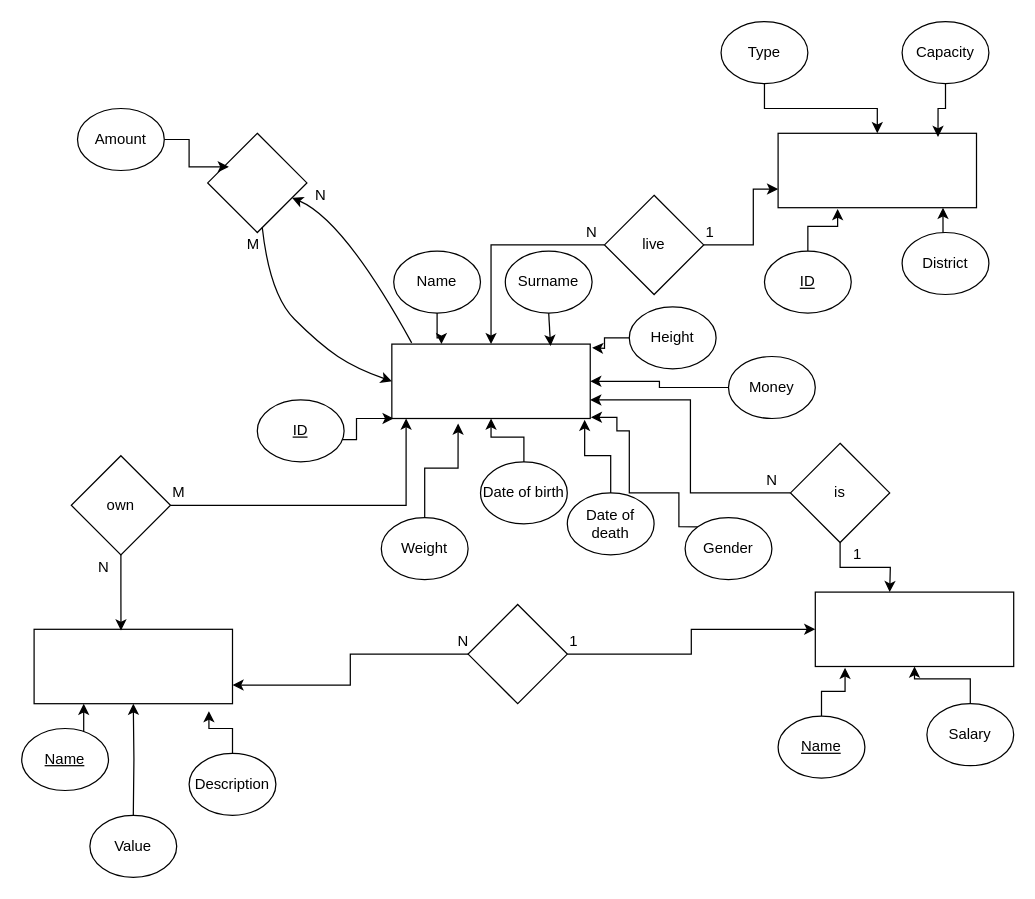
This 1035x899 diagram has some shape labels left out. The box of each missing label's shape, as (x1, y1, x2, y2) in pixels:
Houses: (777, 132, 976, 208)
Items: (33, 628, 232, 704)
make: (467, 603, 567, 704)
Persons: (391, 343, 590, 418)
Proffesions: (814, 591, 1014, 666)
transactions: (206, 132, 307, 232)
